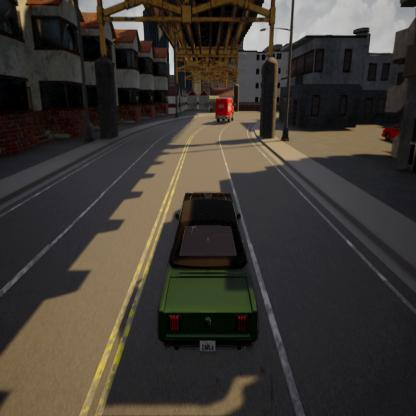Cars: (151, 168, 266, 396), (209, 87, 240, 135)
